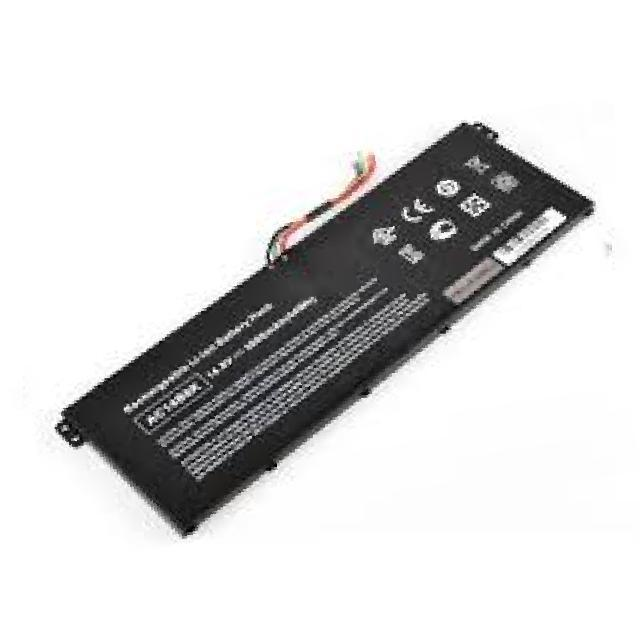Battery: (40, 100, 610, 543)
